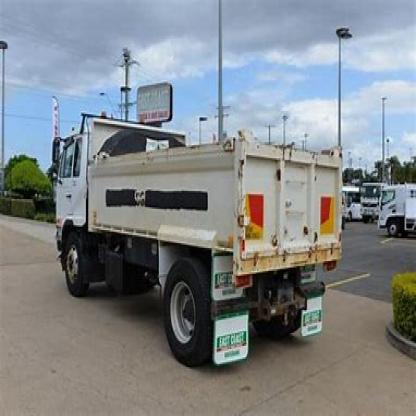dump_truck: (49, 101, 364, 393)
